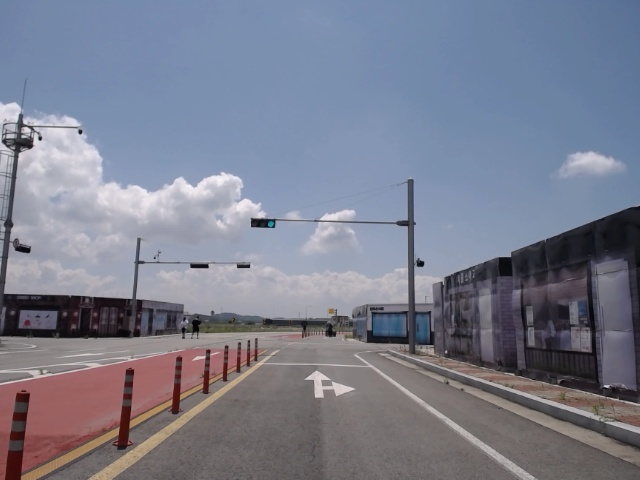green_3: (251, 219, 277, 227)
